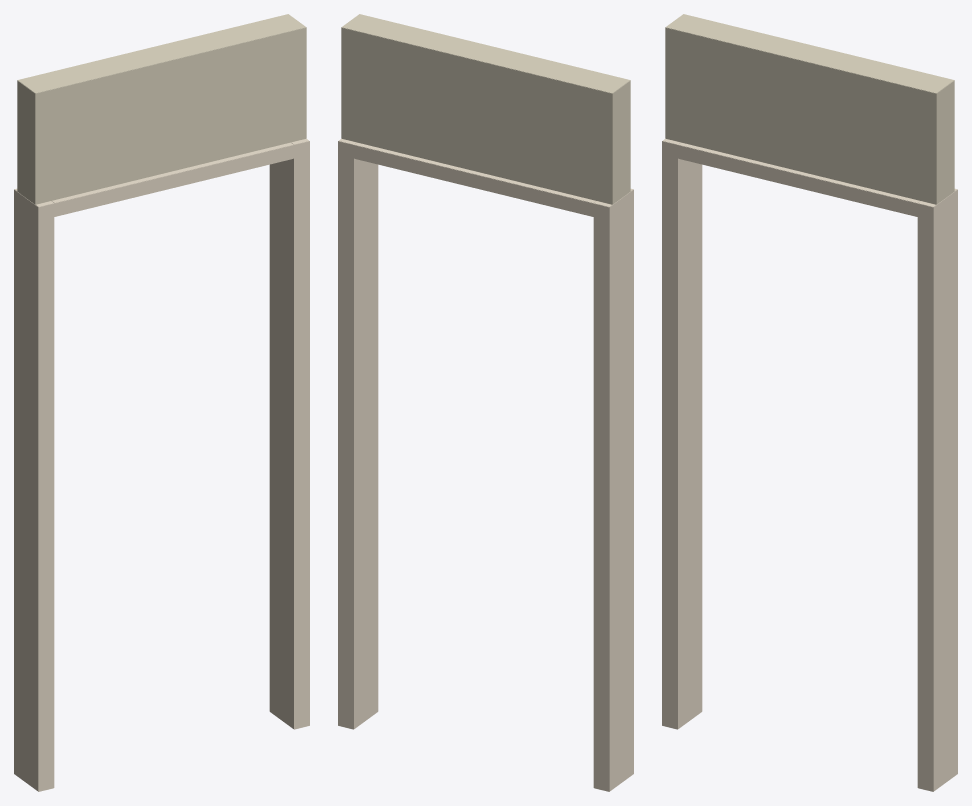
File: doorway.glb
3 renders of one model, left to right at view 1: azimuth 30°, elevation 25°; view 2: azimuth 150°, elevation 25°; view 3: azimuth 330°, elevation 25°, orthographic.
Parts seen in each view (by area): view 1: DoorWallLintel, DoorFrameLeft, DoorFrameRight, DoorFrameHeader; view 2: DoorWallLintel, DoorFrameLeft, DoorFrameRight, DoorFrameHeader; view 3: DoorWallLintel, DoorFrameRight, DoorFrameLeft, DoorFrameHeader.
Part boxes in pixels (x1,y1,x2,y2): DoorWallLintel: (17,14,306,204); DoorFrameLeft: (14,188,54,791); DoorFrameRight: (269,138,309,729); DoorFrameHeader: (51,142,293,216); DoorWallLintel: (341,14,630,204); DoorFrameLeft: (593,188,633,791); DoorFrameRight: (338,138,378,729); DoorFrameHeader: (354,142,596,216); DoorWallLintel: (665,14,954,204); DoorFrameRight: (917,188,957,791); DoorFrameLeft: (662,138,702,729); DoorFrameHeader: (678,142,920,216).
Size of the model in its own units: 1.02 by 2.5 by 0.16.
